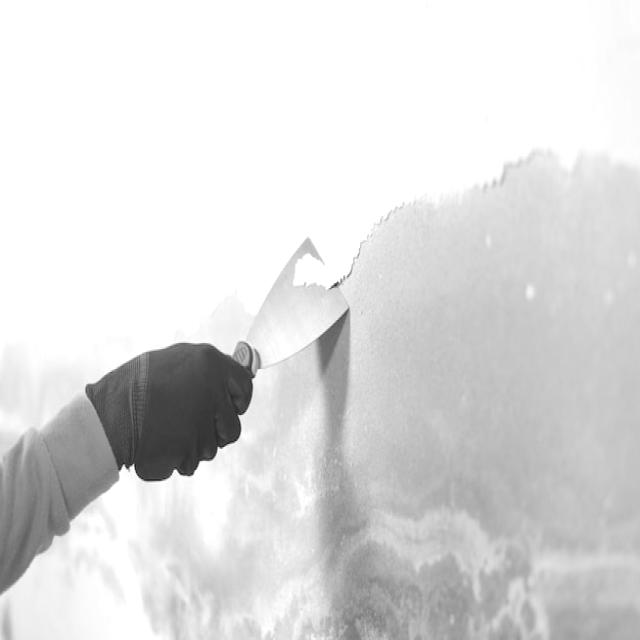peeling paint: (0, 134, 640, 402)
